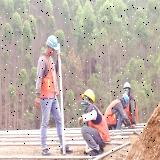Helmet: (81, 88, 95, 104), (46, 34, 59, 51), (122, 93, 130, 107), (123, 81, 131, 90)
Vest: (87, 104, 112, 148), (39, 54, 60, 100), (104, 98, 121, 128), (125, 94, 138, 126)
